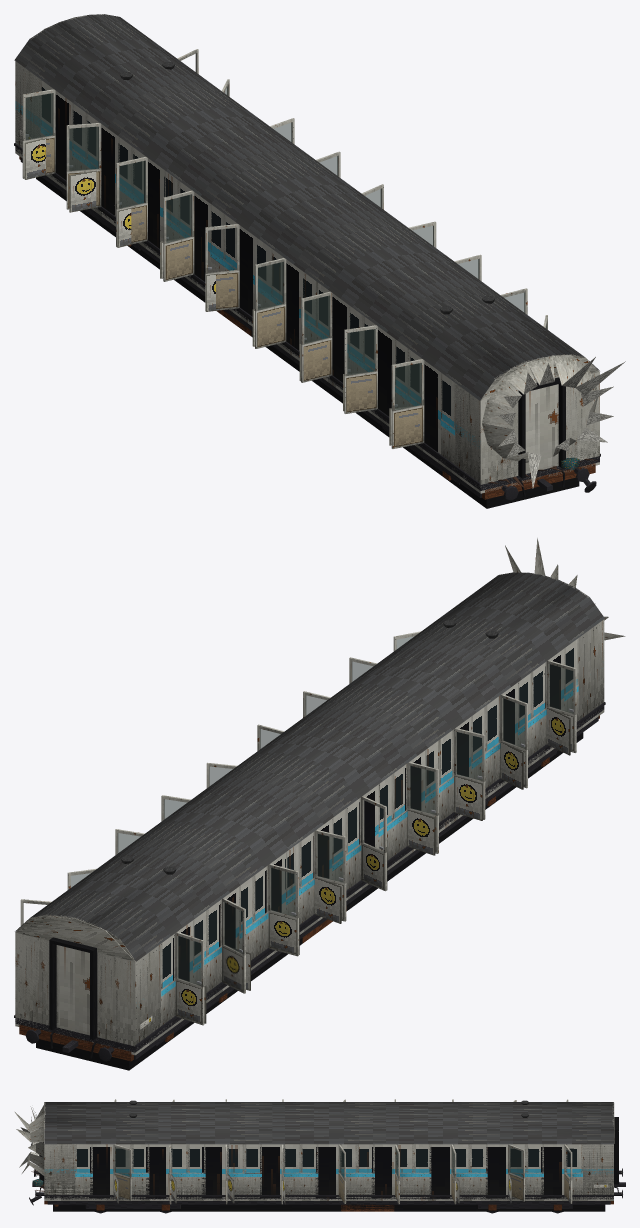
The model's file is rp_commuter.glb.
3 views of the same model, one above another, from view 1: azimuth 30°, elevation 25°; view 2: azimuth 150°, elevation 25°; view 3: azimuth 270°, elevation 25° (orthographic). The views are drawn at different scales.
Visible parts, largest first — view 1: cm_car, cm_lod, cm_glass, cm_end_torn, cm_end; view 2: cm_car, cm_lod, cm_glass; view 3: cm_car, cm_lod, cm_end_torn, cm_glass, cm_end.
Boxes of the visible parts, <box> form: cm_car: <box>14,14,600,497</box>; cm_lod: <box>15,14,599,508</box>; cm_glass: <box>25,86,546,410</box>; cm_end_torn: <box>482,355,625,500</box>; cm_end: <box>480,354,598,499</box>; cm_car: <box>14,572,605,1061</box>; cm_lod: <box>15,572,604,1070</box>; cm_glass: <box>70,636,573,985</box>; cm_car: <box>44,1099,625,1213</box>; cm_lod: <box>44,1103,614,1211</box>; cm_end_torn: <box>14,1105,58,1206</box>; cm_glass: <box>115,1147,522,1178</box>; cm_end: <box>32,1102,47,1204</box>.
Size of the model in its own units: 4.28 by 3.81 by 20.62.
2 materials, 1 textured.
